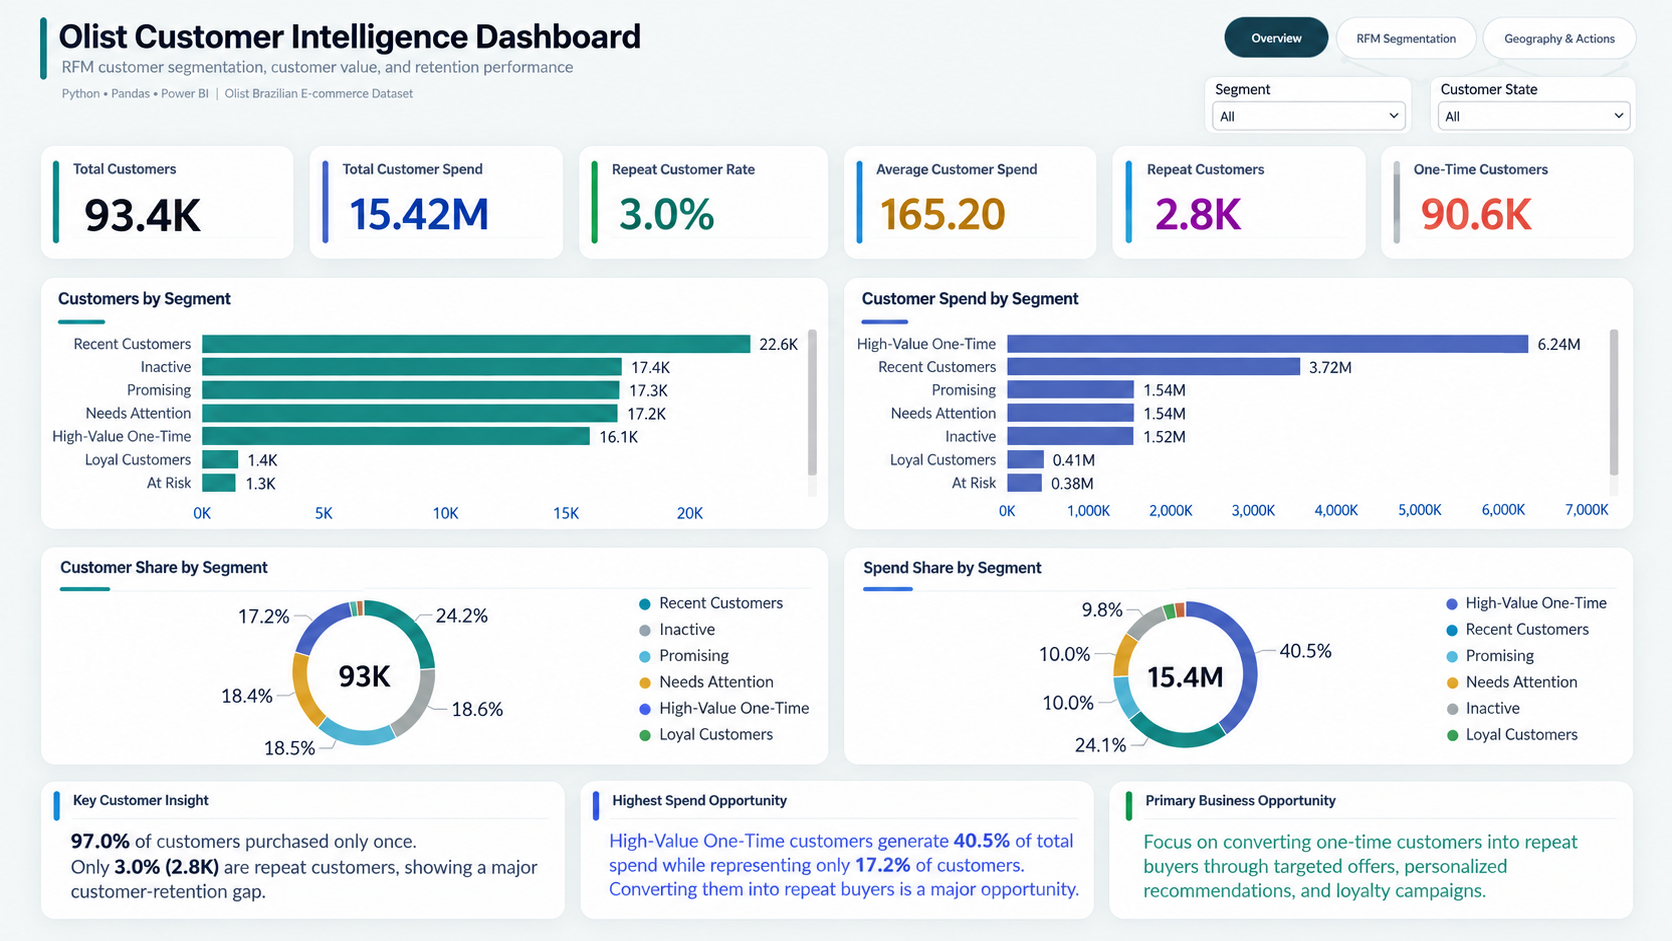

Layout of this report page (visuals, bound fields, positions):
{"tool":"powerbi","page":{"name":"Page 1","canvas":[1920,1080],"ordinal":0},"visuals":[{"type":"cardVisual","fields":{"Data":["olist_customer_segmentation_final.Total Customers"]},"box":[77.6,219,245.6,61.9],"z":0},{"type":"cardVisual","fields":{"Data":["olist_customer_segmentation_final.Total Customer Spend"]},"box":[385.9,219,245.6,61.9],"z":1000},{"type":"cardVisual","fields":{"Data":["olist_customer_segmentation_final.Repeat Customer Rate"]},"box":[694.3,219,245.6,61.9],"z":2000},{"type":"cardVisual","fields":{"Data":["olist_customer_segmentation_final.Average Customer Spend"]},"box":[1002,220,245.6,61.9],"z":3000},{"type":"cardVisual","fields":{"Data":["olist_customer_segmentation_final.Repeat Customers"]},"box":[1312,220,245.6,61.9],"z":4000},{"type":"cardVisual","fields":{"Data":["olist_customer_segmentation_final.One-Time Customers"]},"box":[1623.3,221.7,245.6,61.9],"z":5000},{"type":"clusteredBarChart","fields":{"Category":["olist_customer_segmentation_final.Segment"],"Y":["olist_customer_segmentation_final.Total Customers"]},"box":[26.7,363.3,926.7,223.3],"z":6000},{"type":"clusteredBarChart","fields":{"Category":["olist_customer_segmentation_final.Segment"],"Y":["olist_customer_segmentation_final.Total Customer Spend"]},"box":[952,364,918,222],"z":7000},{"type":"donutChart","fields":{"Category":["olist_customer_segmentation_final.Segment"],"Y":["olist_customer_segmentation_final.Total Customers"]},"box":[77.5,627.5,862.5,212.5],"z":8000},{"type":"donutChart","fields":{"Category":["olist_customer_segmentation_final.Segment"],"Y":["olist_customer_segmentation_final.Total Customer Spend"]},"box":[960,630,862.5,212.5],"z":9000},{"type":"textbox","box":[78,900,554,112],"z":10000},{"type":"textbox","box":[694.8,895,555,116.7],"z":11000},{"type":"textbox","box":[1312.5,900,554,112],"z":12000},{"type":"shape","box":[1452,109,194,54],"z":13000},{"type":"slicer","fields":{"Values":["olist_customer_segmentation_final.Segment"]},"box":[1454,127,192,36],"z":14000},{"type":"textbox","box":[1461,109,88,18],"z":15000},{"type":"shape","box":[1665,109,206,54],"z":16000},{"type":"slicer","fields":{"Values":["olist_customer_segmentation_final.customer_state"]},"box":[1670,128,200,32],"z":17000},{"type":"textbox","box":[1677,113,107,18],"z":18000}]}

Visuals, with their boxes in screenshot pixels (x1, y1, x2, y2), scaled from the page's 1920x1080 canvas onto the 1672x941 screenshot:
cardVisual - olist_customer_segmentation_final.Total Customers: x1=68, y1=191, x2=281, y2=245
cardVisual - olist_customer_segmentation_final.Total Customer Spend: x1=336, y1=191, x2=550, y2=245
cardVisual - olist_customer_segmentation_final.Repeat Customer Rate: x1=605, y1=191, x2=818, y2=245
cardVisual - olist_customer_segmentation_final.Average Customer Spend: x1=873, y1=192, x2=1086, y2=246
cardVisual - olist_customer_segmentation_final.Repeat Customers: x1=1143, y1=192, x2=1356, y2=246
cardVisual - olist_customer_segmentation_final.One-Time Customers: x1=1414, y1=193, x2=1628, y2=247
clusteredBarChart - olist_customer_segmentation_final.Segment x olist_customer_segmentation_final.Total Customers: x1=23, y1=317, x2=830, y2=511
clusteredBarChart - olist_customer_segmentation_final.Segment x olist_customer_segmentation_final.Total Customer Spend: x1=829, y1=317, x2=1628, y2=511
donutChart - olist_customer_segmentation_final.Segment x olist_customer_segmentation_final.Total Customers: x1=67, y1=547, x2=819, y2=732
donutChart - olist_customer_segmentation_final.Segment x olist_customer_segmentation_final.Total Customer Spend: x1=836, y1=549, x2=1587, y2=734
textbox: x1=68, y1=784, x2=550, y2=882
textbox: x1=605, y1=780, x2=1088, y2=881
textbox: x1=1143, y1=784, x2=1625, y2=882
shape: x1=1264, y1=95, x2=1433, y2=142
slicer - olist_customer_segmentation_final.Segment: x1=1266, y1=111, x2=1433, y2=142
textbox: x1=1272, y1=95, x2=1349, y2=111
shape: x1=1450, y1=95, x2=1629, y2=142
slicer - olist_customer_segmentation_final.customer_state: x1=1454, y1=112, x2=1628, y2=139
textbox: x1=1460, y1=98, x2=1554, y2=114
